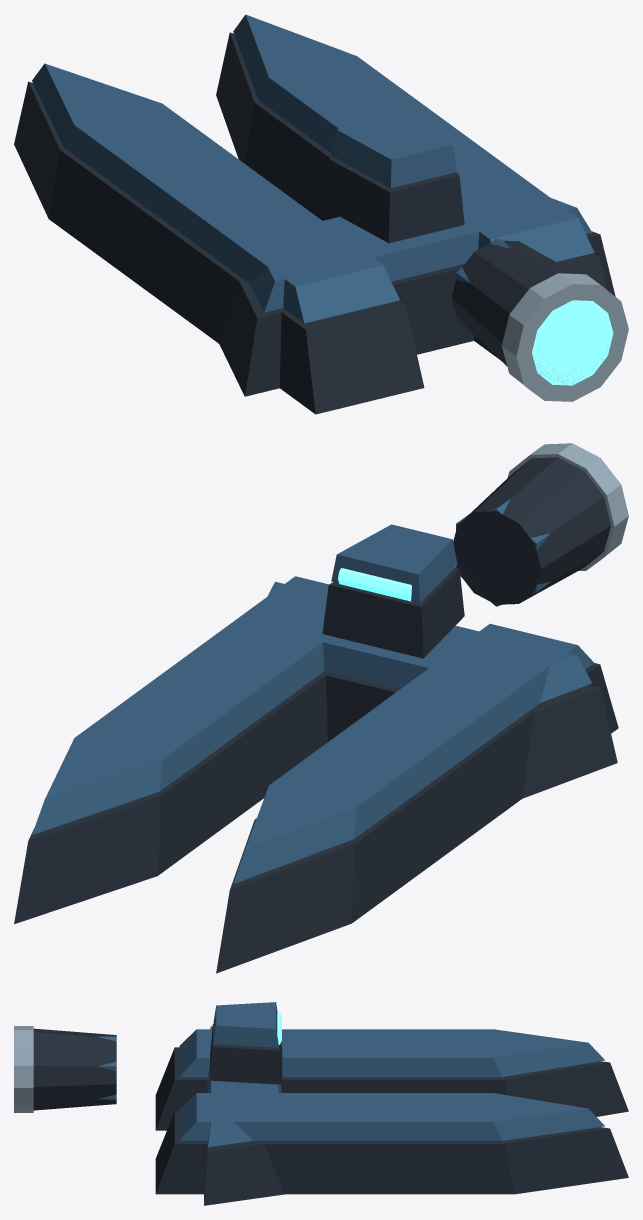
File: c4_kamikaze.glb
3 renders of one model, top to bottom at view 1: azimuth 30°, elevation 25°; view 2: azimuth 150°, elevation 25°; view 3: azimuth 270°, elevation 25°, orthographic. The views are drawn at different scales.
Parts seen in each view (by area): view 1: kamikaze / Armor, kamikaze / Chassis, kamikaze / Titanium, kamikaze / Energy; view 2: kamikaze / Chassis, kamikaze / Armor, kamikaze / Titanium, kamikaze / Energy; view 3: kamikaze / Chassis, kamikaze / Armor, kamikaze / Titanium.
Part boxes in pixels (x1=…): kamikaze / Armor: x1=32, y1=14, x2=594, y2=330; kamikaze / Chassis: x1=14, y1=32, x2=615, y2=414; kamikaze / Titanium: x1=502, y1=273, x2=628, y2=401; kamikaze / Energy: x1=532, y1=300, x2=613, y2=385; kamikaze / Chassis: x1=14, y1=457, x2=618, y2=973; kamikaze / Armor: x1=32, y1=499, x2=594, y2=883; kamikaze / Titanium: x1=507, y1=443, x2=628, y2=570; kamikaze / Energy: x1=338, y1=568, x2=411, y2=601; kamikaze / Chassis: x1=33, y1=1024, x2=628, y2=1205; kamikaze / Armor: x1=97, y1=1002, x2=604, y2=1146; kamikaze / Titanium: x1=14, y1=1026, x2=33, y2=1112.
Size of the model in its own units: 0.96 by 0.473 by 2.04.
